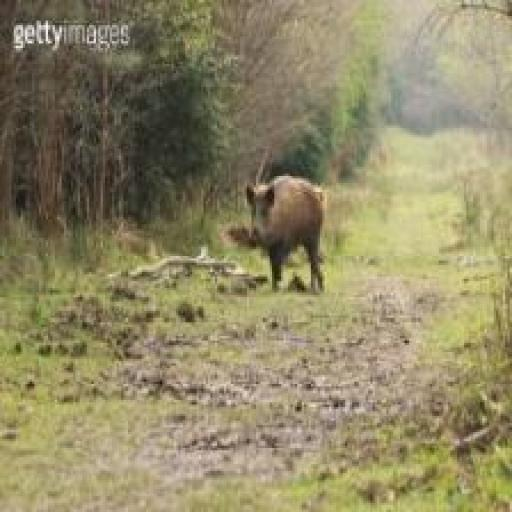Pig: (240, 162, 334, 304)
